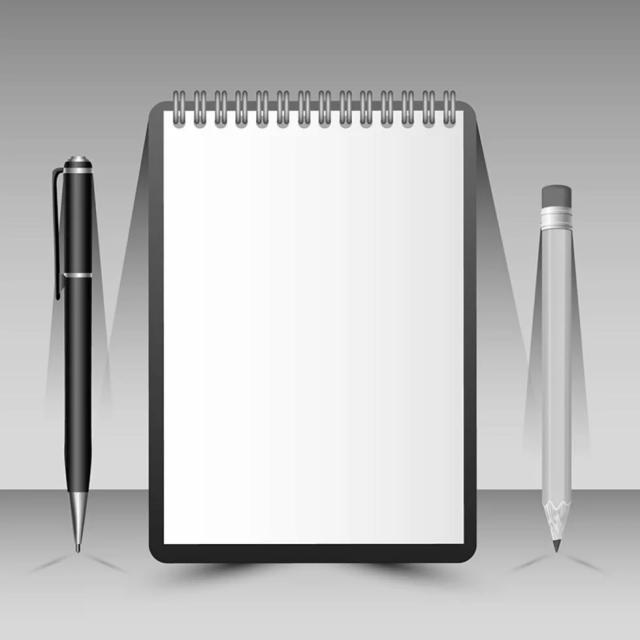pencil: (42, 144, 118, 554), (536, 185, 576, 551)
